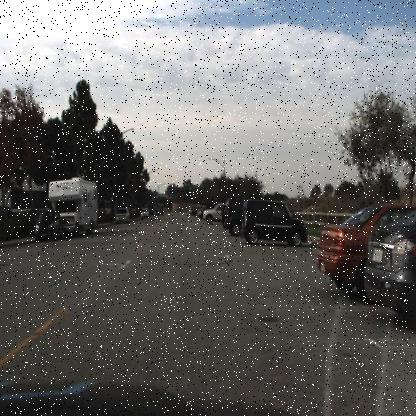car: (317, 199, 415, 301), (237, 196, 307, 246), (45, 178, 99, 235), (219, 197, 243, 240), (33, 205, 61, 241), (35, 207, 63, 243), (221, 198, 248, 235), (202, 199, 225, 226), (112, 204, 130, 228), (138, 204, 150, 220)
truck: (52, 180, 93, 232)
